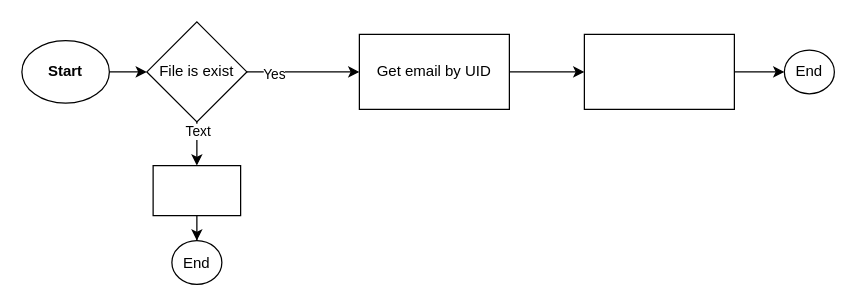
The diagram is 856 pixels wide and 306 high, and some of its shapes have lost their labels. Here are the shapes that lost their labels. From the top down, the centre of each, then its label:
(x=658, y=71): Replay
(x=196, y=190): SE
